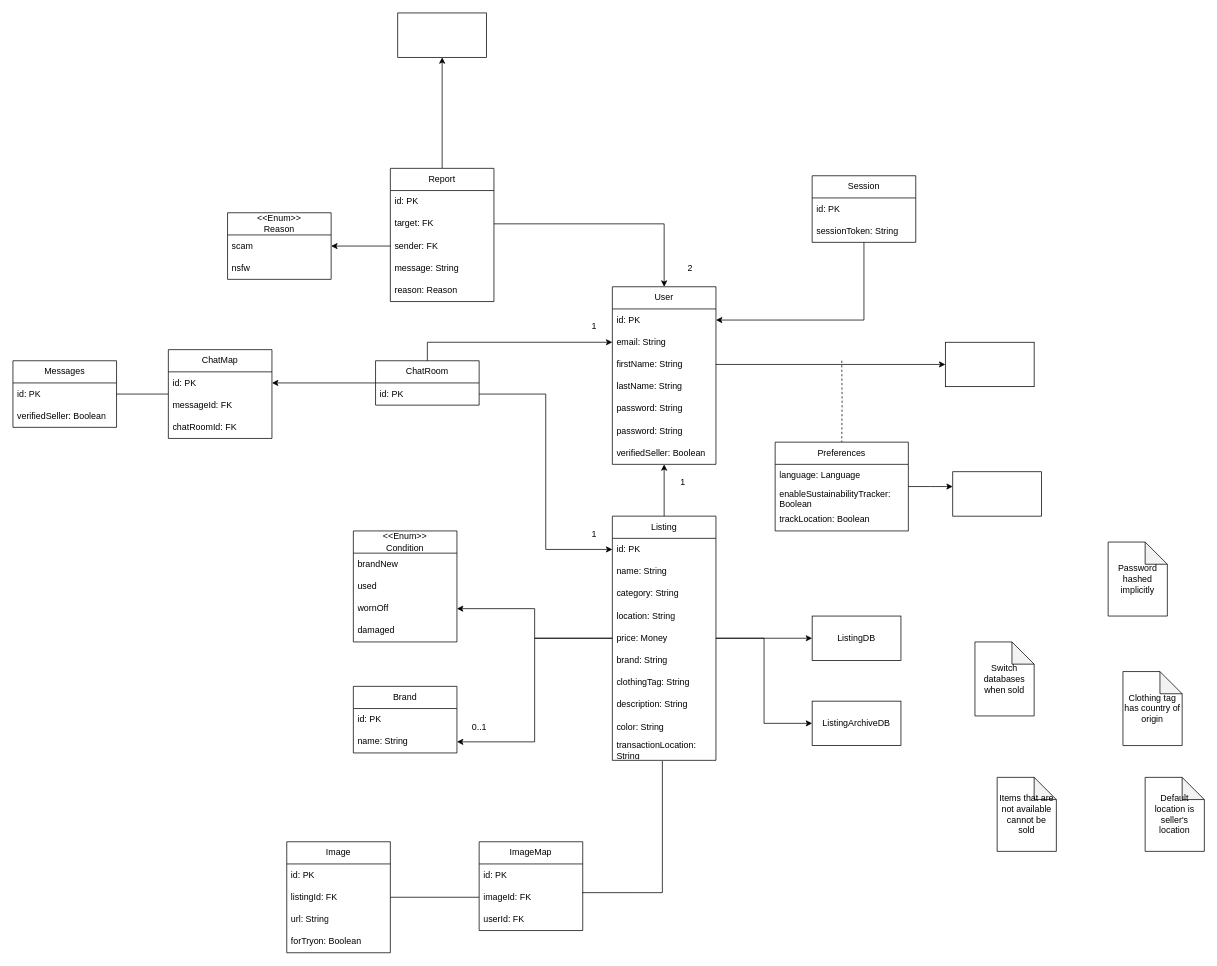
The diagram is 1217 pixels wide and 966 high, and some of its shapes have lost their labels. Each missing label, with the centre of its shape:
<<Enum>> Language: the point at 997,493
ReportDB: the point at 442,34
UserDB: the point at 989,364
